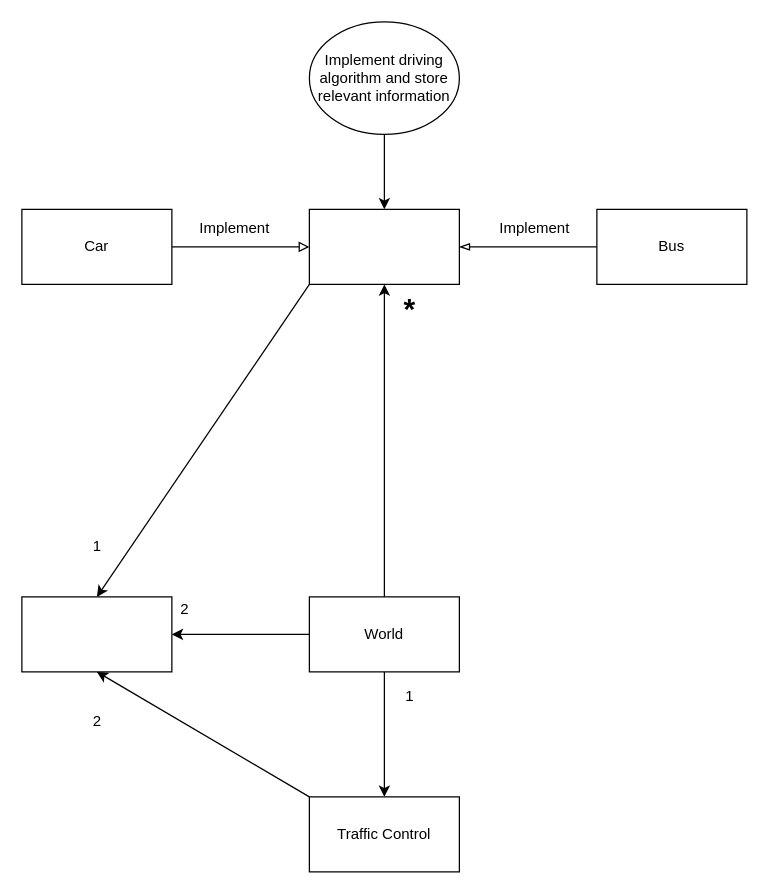
This 769x894 diagram has some shape labels left out. The shapes that lost their labels are listed below. From the top down, each one's centre as x and y in pixels, then its label:
(383,246): Vehicle
(96,634): Road
